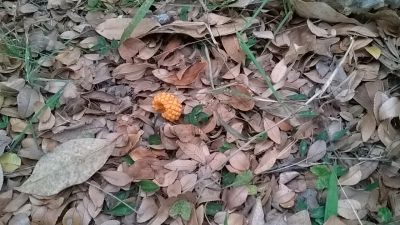eggs: (151, 90, 183, 123)
